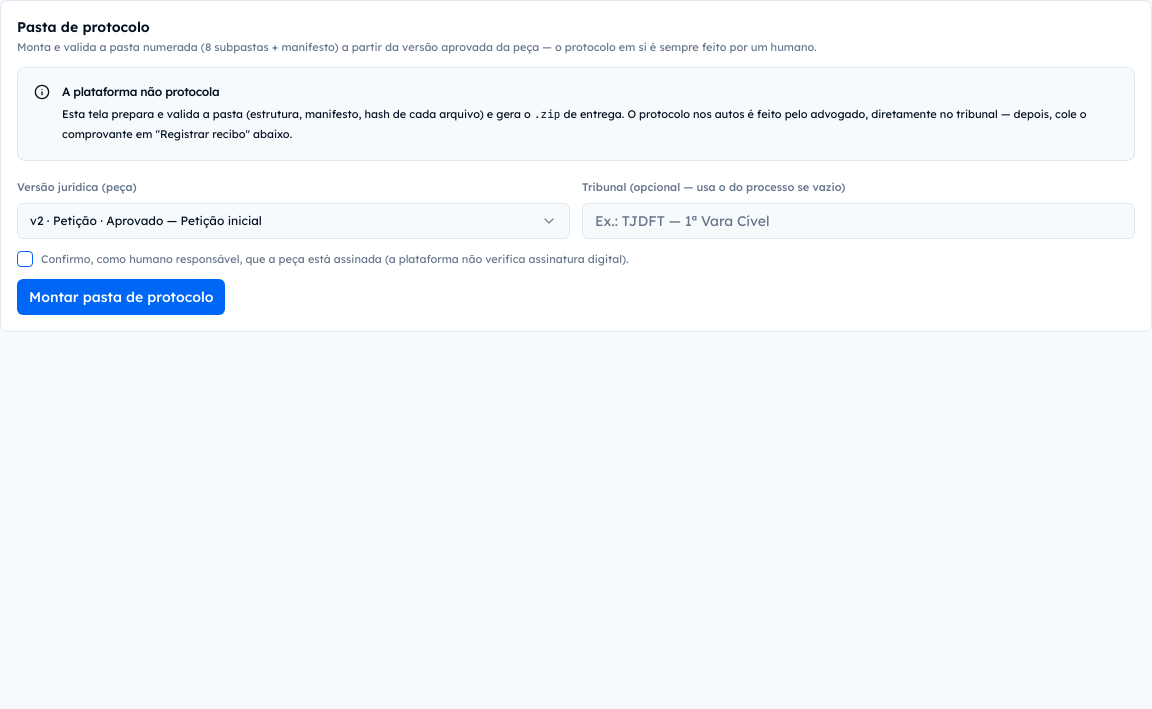
LegalProtocolTab › never offers a "protocolar" action — only build/download/receipt, protocol itself stays human
This screenshot has width=1152, height=709.
Click the button "Montar pasta de protocolo": x=121, y=297 top-left (17, 279), bottom-right (225, 315)
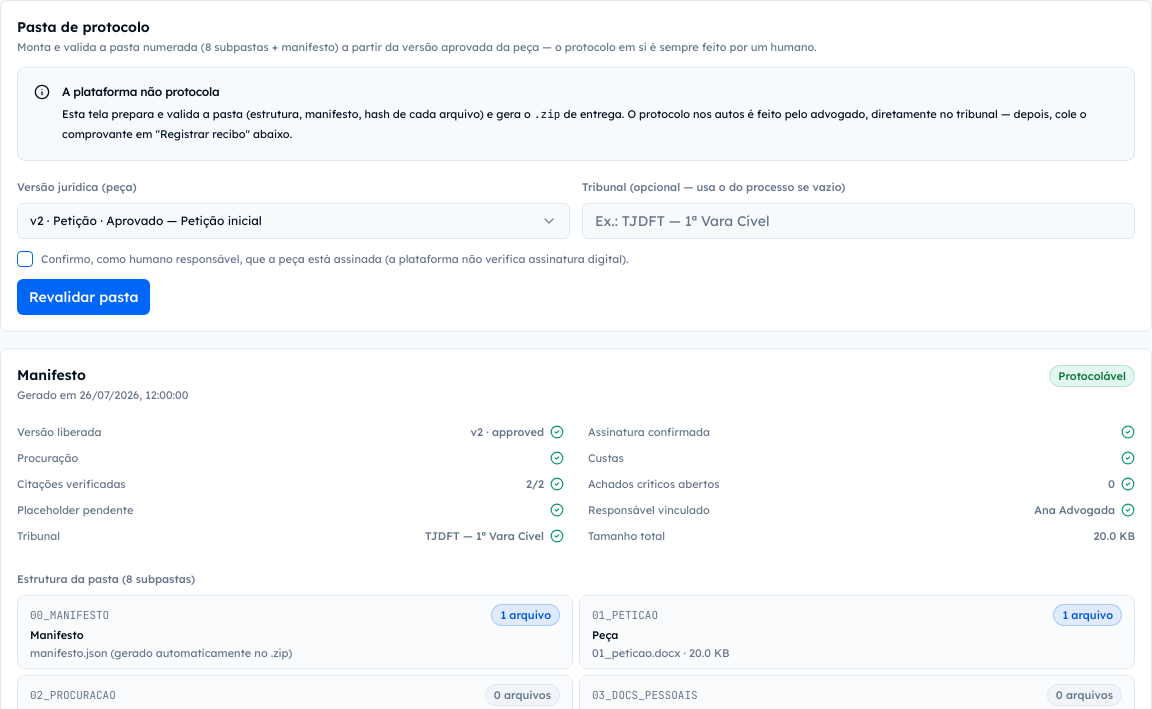
Expected: the heading "A plataforma não protocola" is shown, top-left (62, 84), bottom-right (219, 99)
Expected: the text "Protocolável" is shown, top-left (1049, 365), bottom-right (1135, 387)
